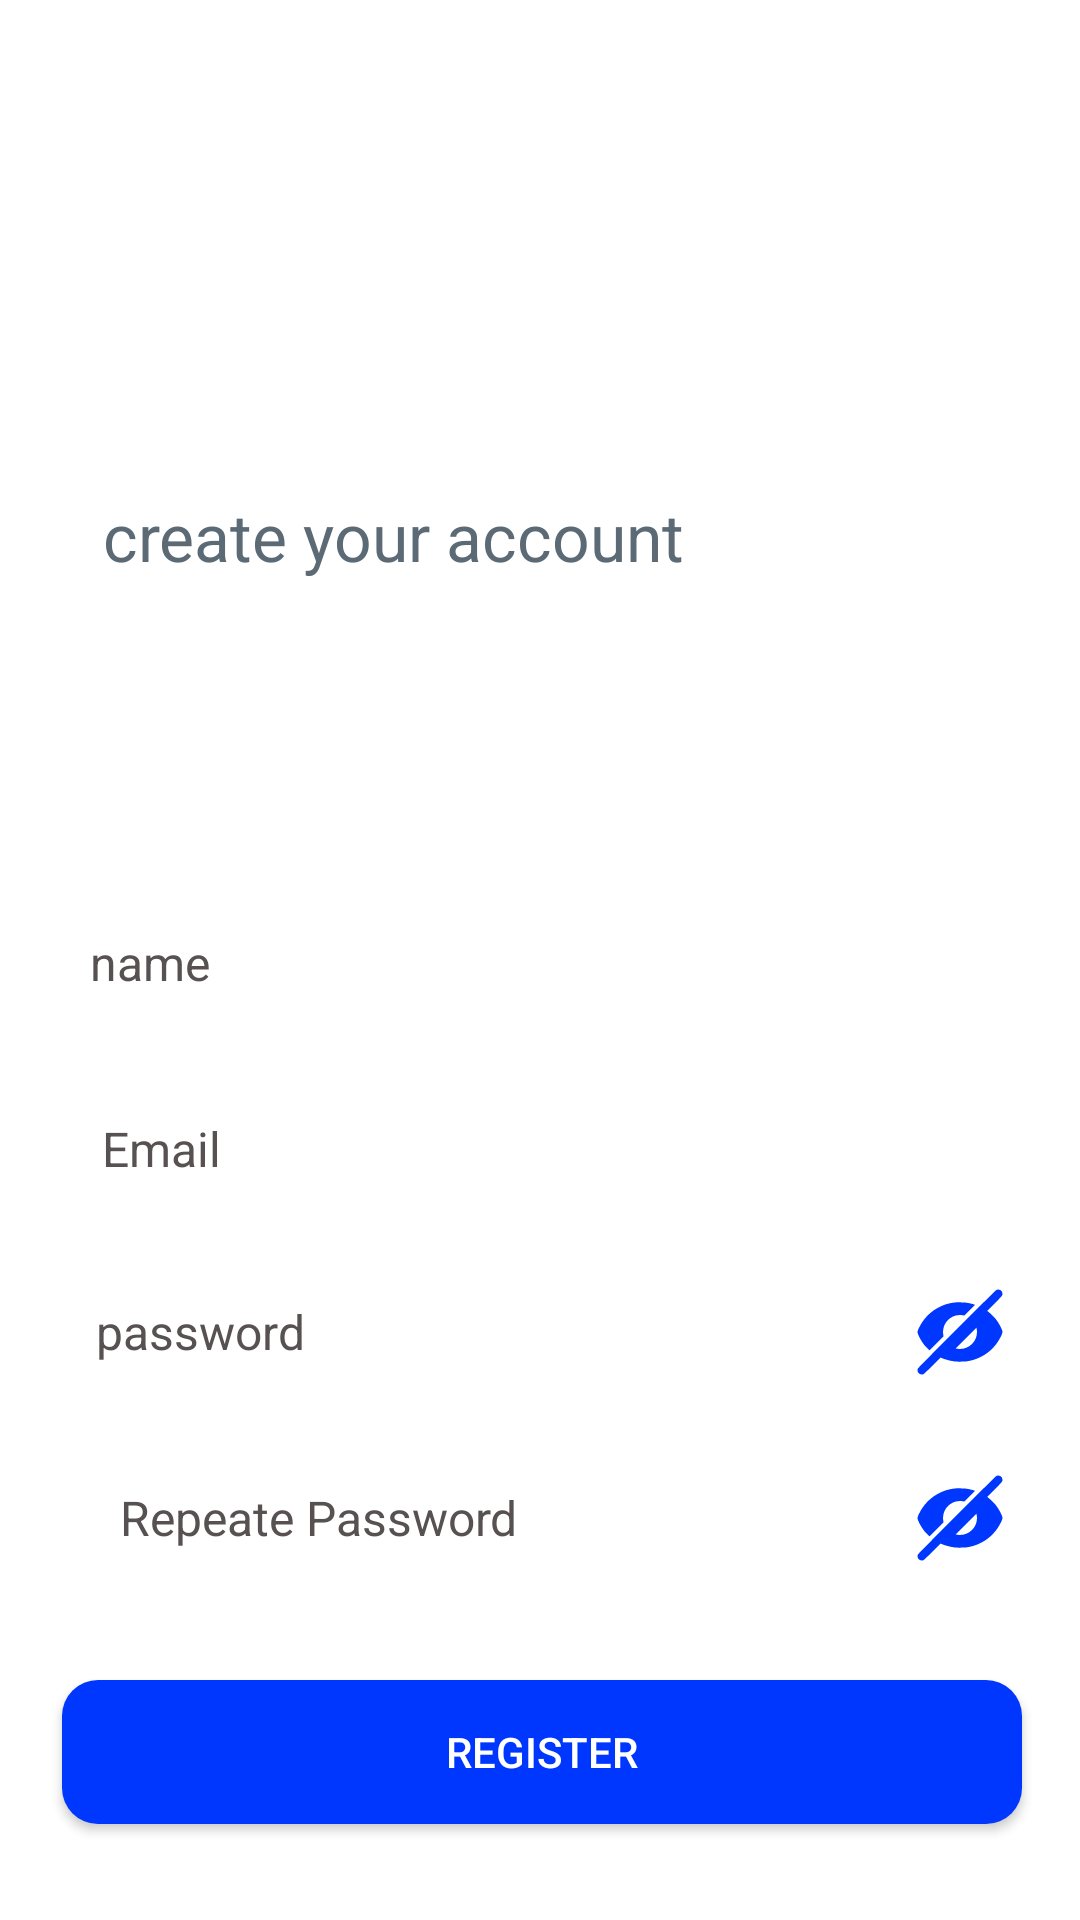

Screen size 1080 x 1920. Icon name, then its box in pixels as (x1=x1, y1=y1, x2=x2, y2=y2):
eye: (x1=917, y1=1289, x2=1003, y2=1375), (x1=917, y1=1475, x2=1003, y2=1561)
